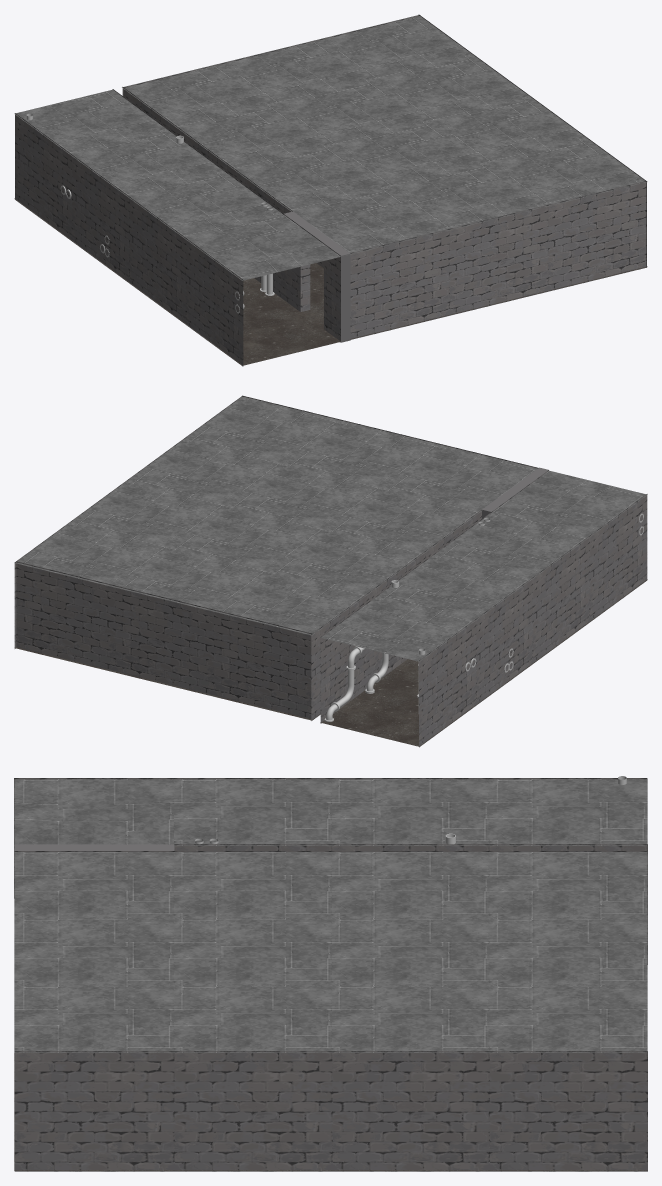
File: oda3.fbx
3 views of the same model, one above another, from view 1: azimuth 30°, elevation 25°; view 2: azimuth 150°, elevation 25°; view 3: azimuth 270°, elevation 25° (orthographic). The views are drawn at different scales.
Visible parts, largest first — view 1: oda3; view 2: oda3, boru10; view 3: oda3.
Part boxes in pixels (box(x1,y1,x2,y2)): oda3: box(14, 14, 647, 366); oda3: box(14, 395, 647, 747); boru10: box(324, 580, 399, 721); oda3: box(14, 778, 647, 1171).
Bounding box in the file's own units: 977 × 210 × 954.
